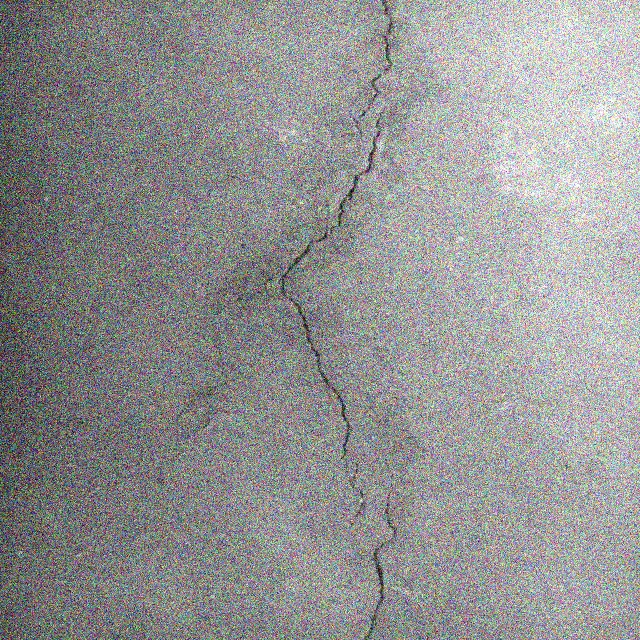SurfaceCrack: (196, 0, 447, 639)
